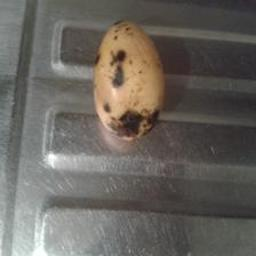Mango Rotten: (84, 15, 175, 145)
